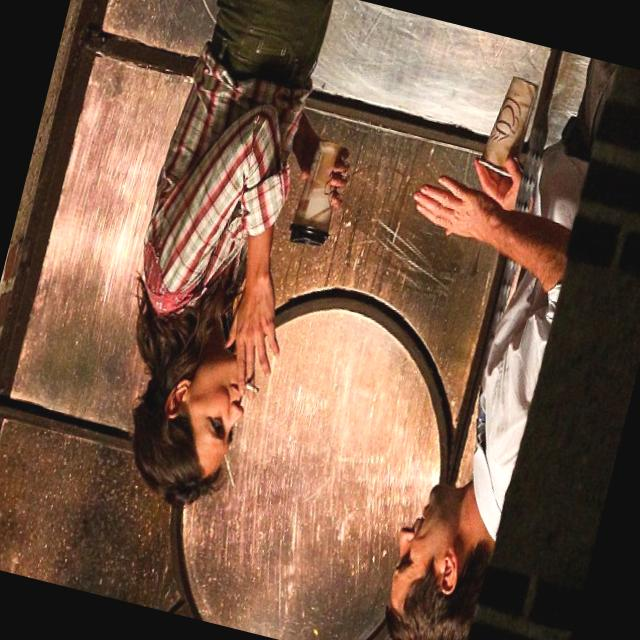smoke: (249, 382, 262, 397)
